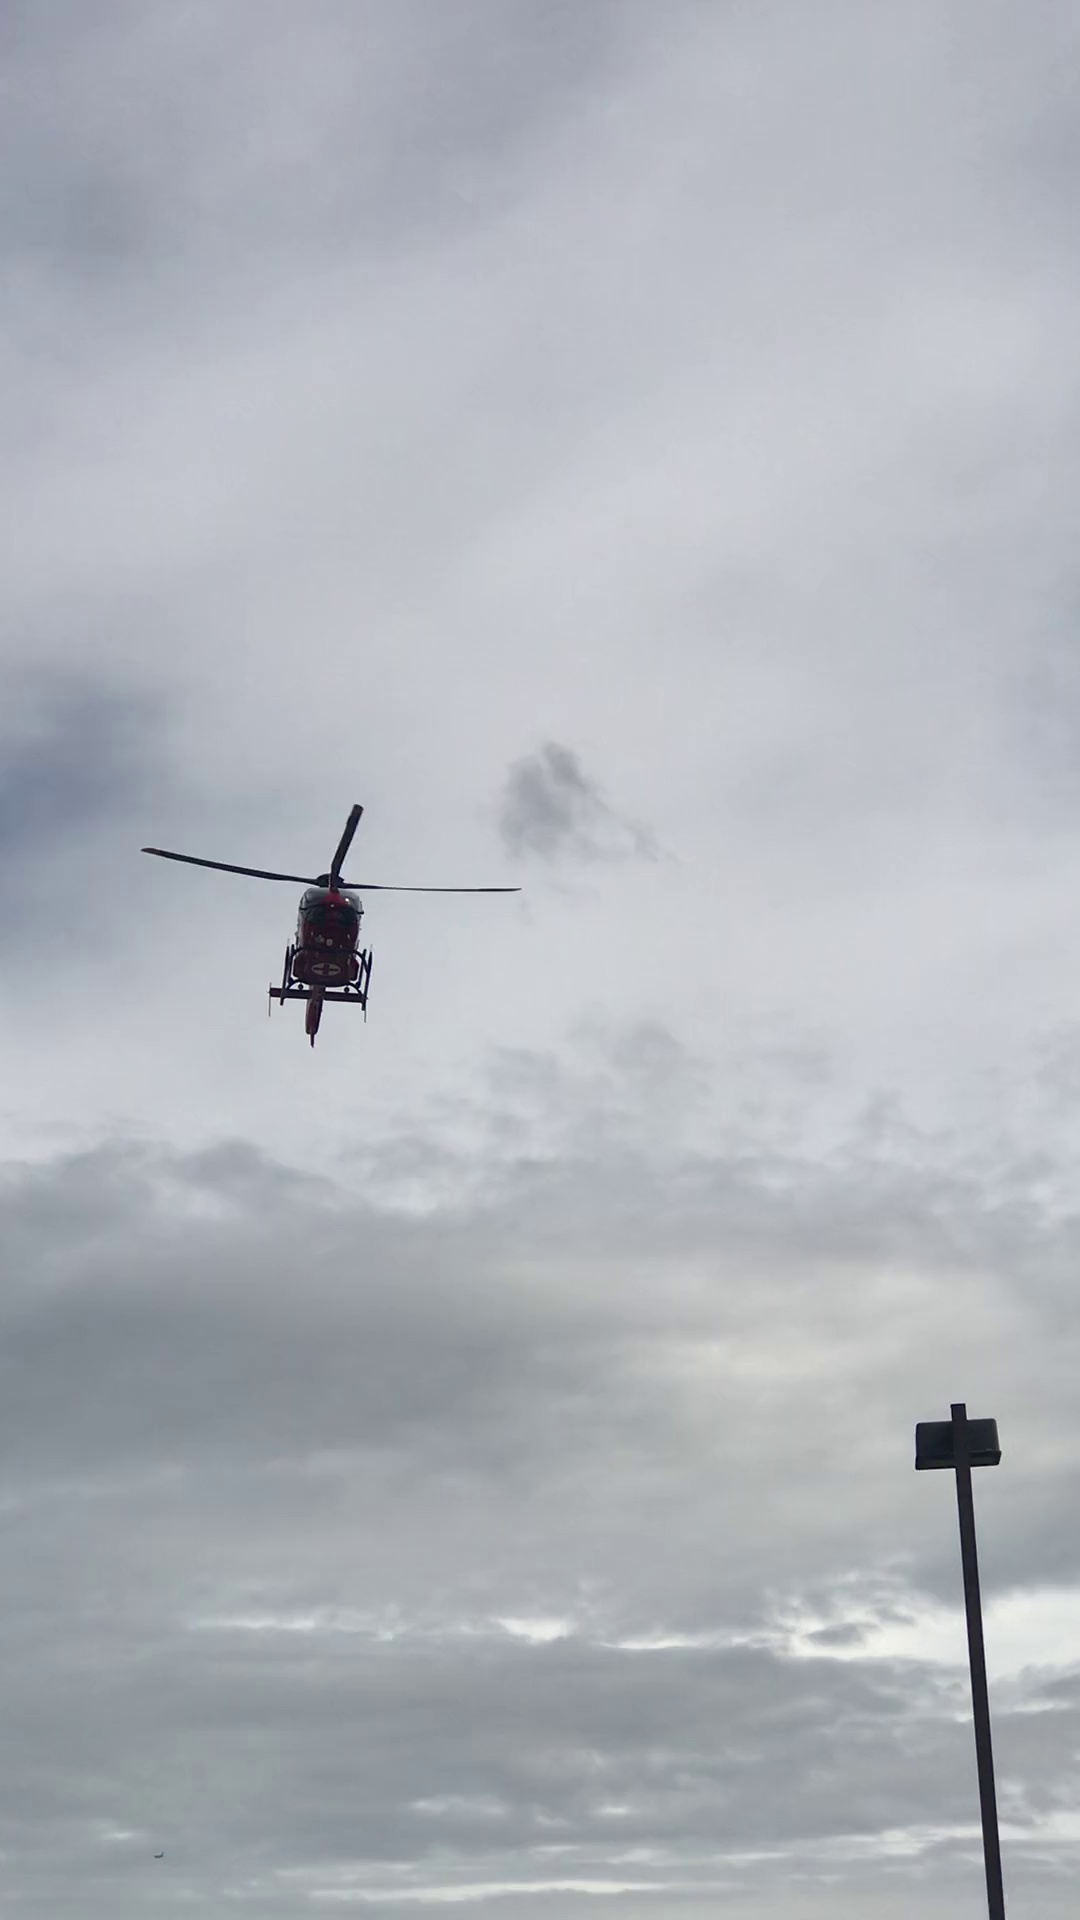heli: (137, 800, 524, 1047)
